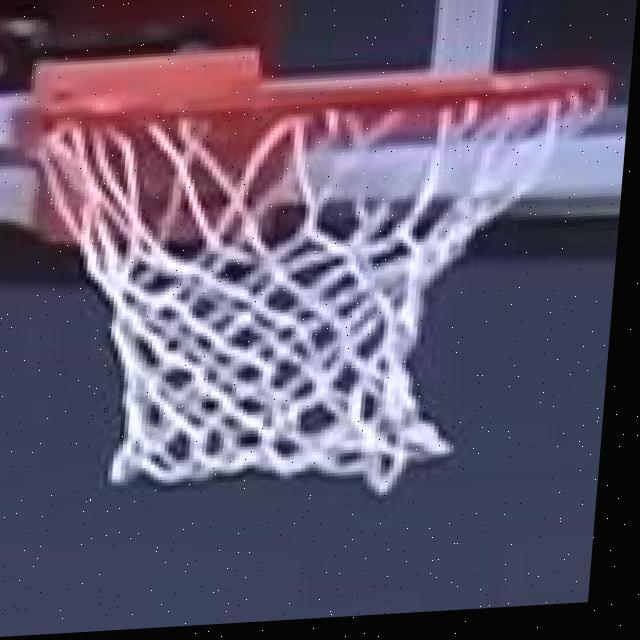hoop: (0, 64, 578, 513)
